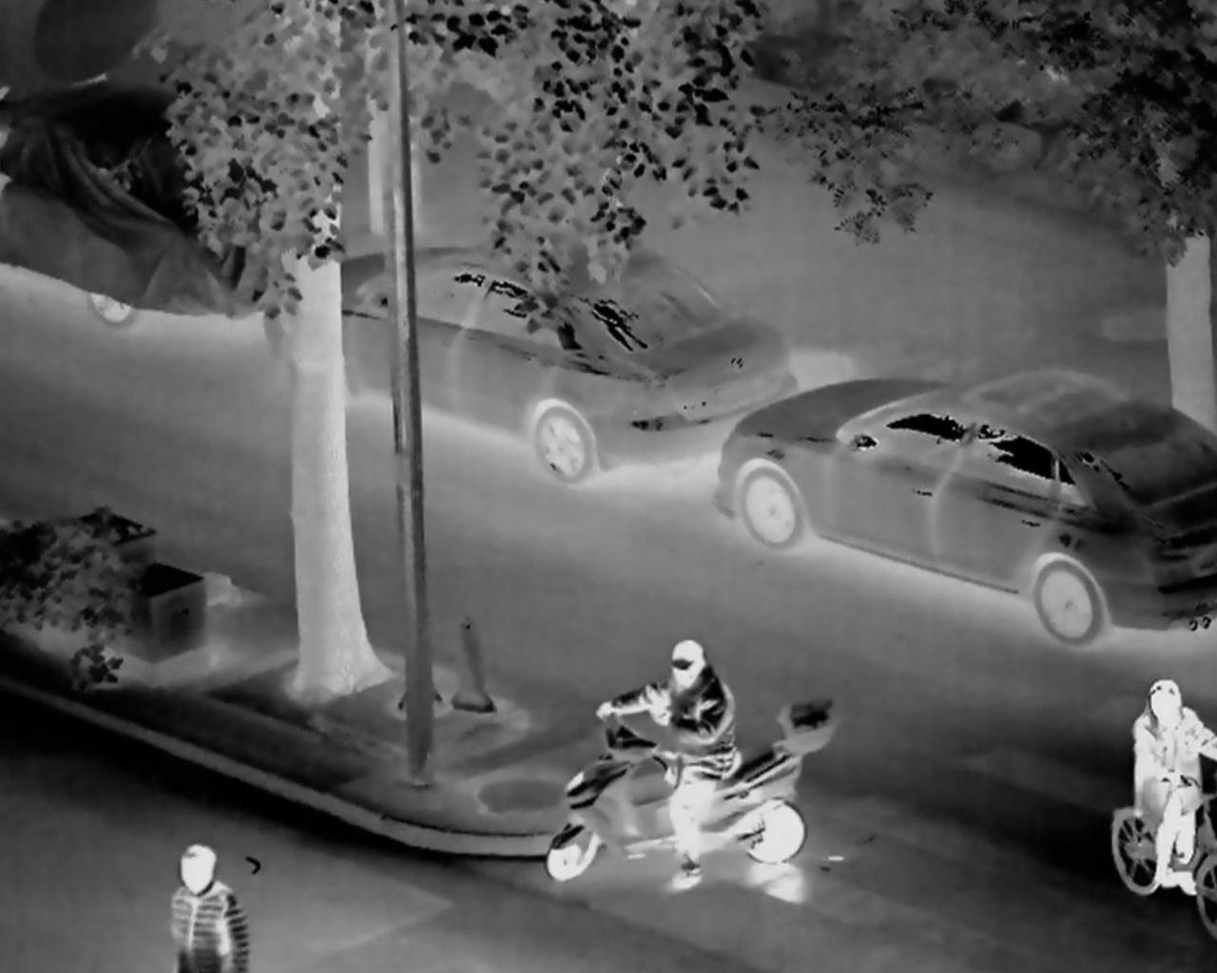person: (597, 629, 763, 916), (1119, 671, 1217, 885), (160, 837, 258, 973)
